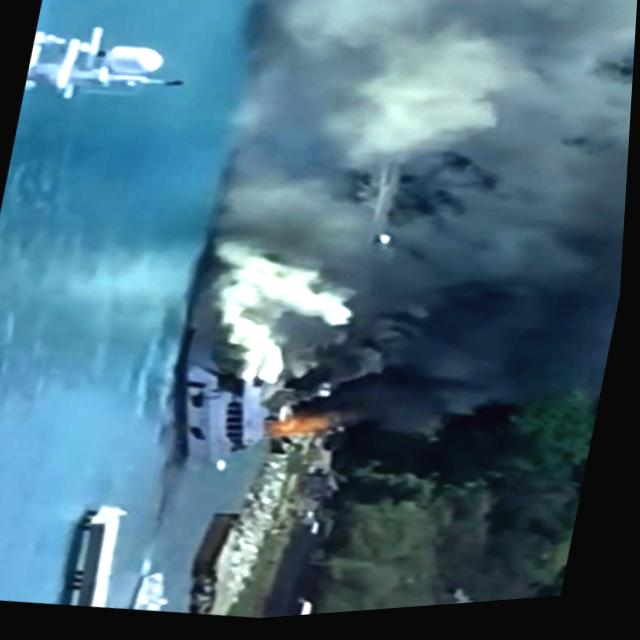smoke: (436, 70, 635, 403), (251, 0, 609, 176)
